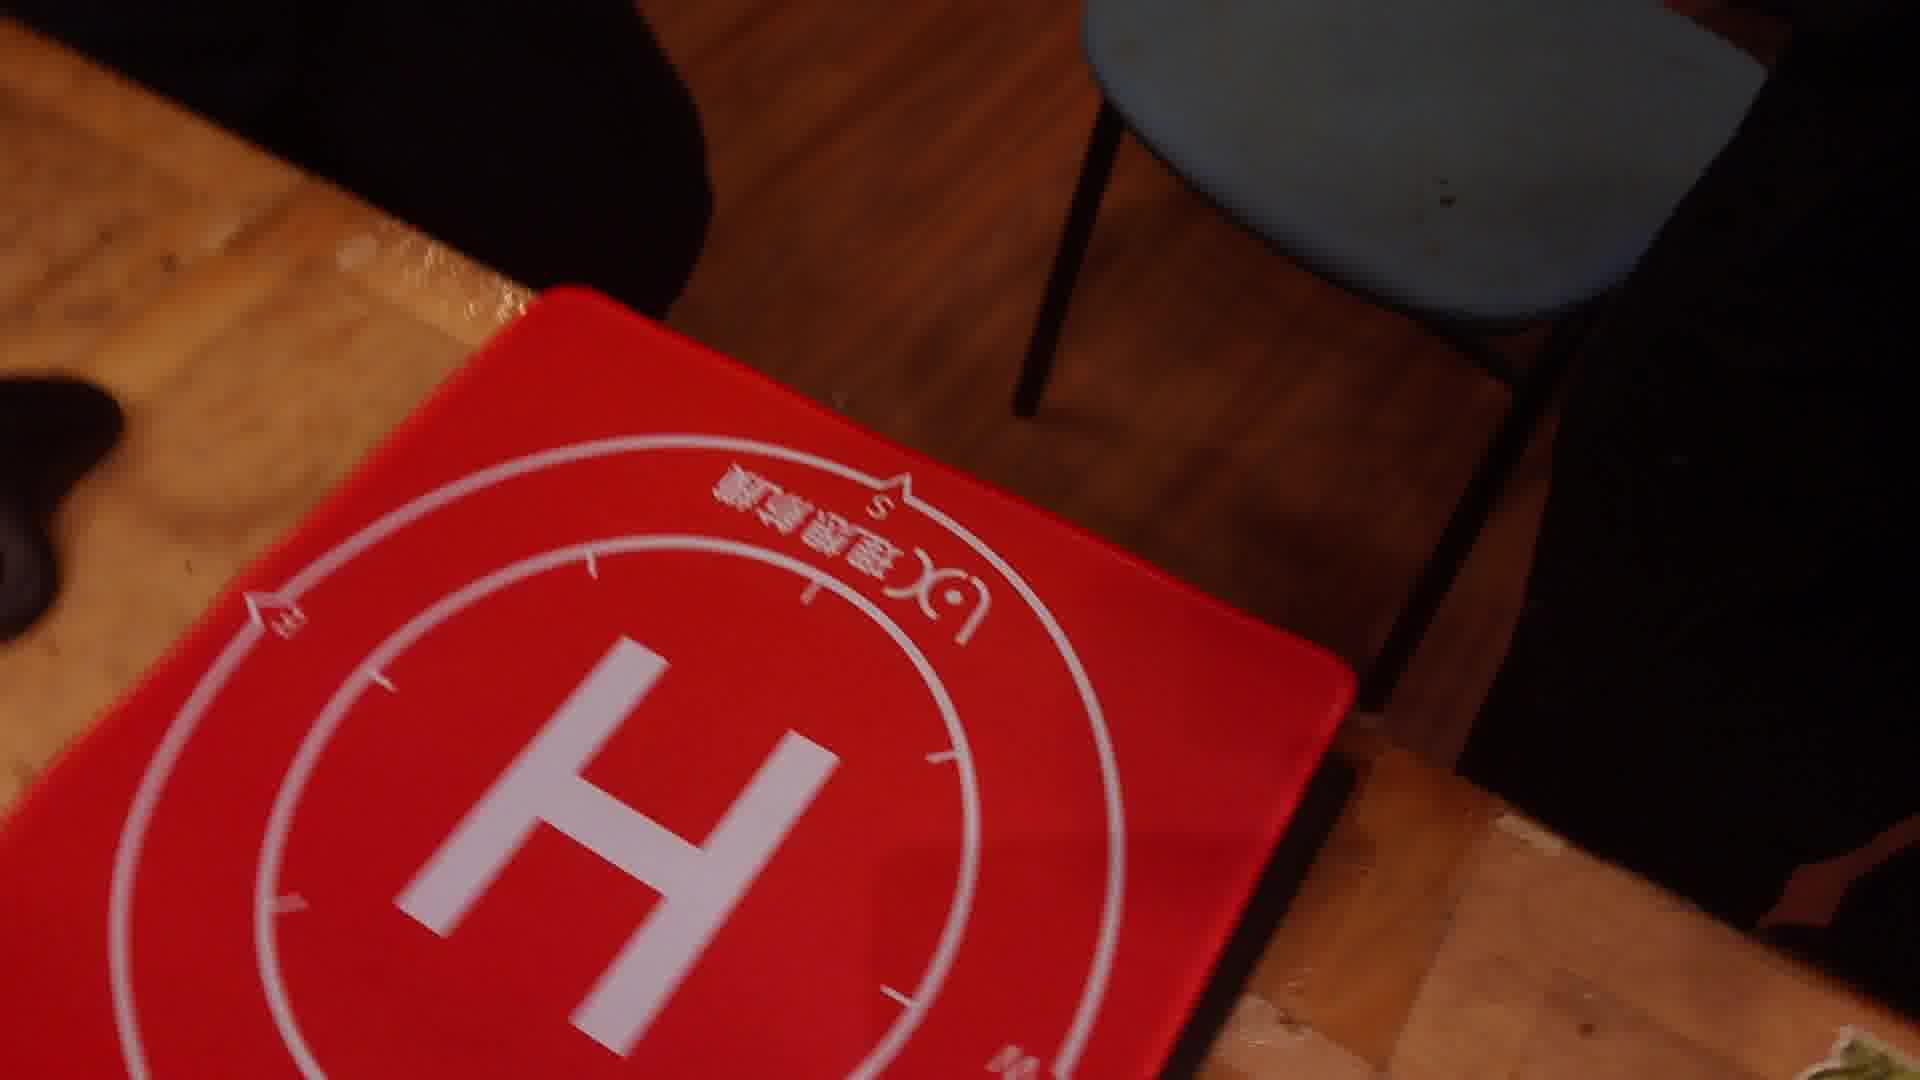H: (392, 633, 845, 1058)
